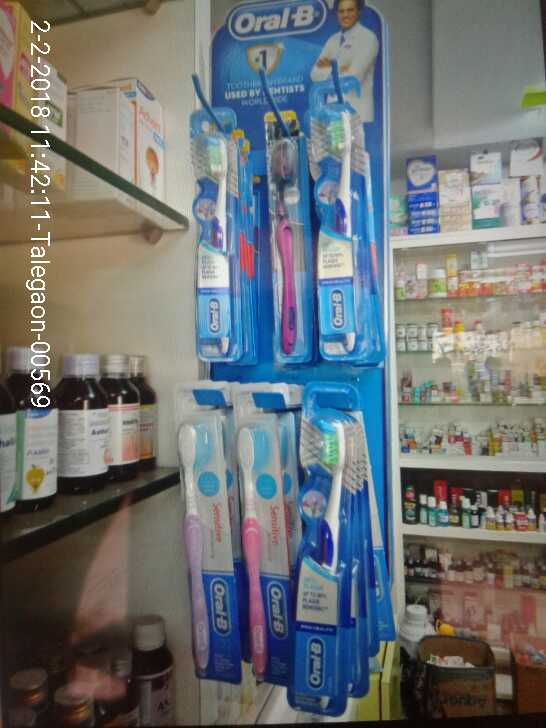oralb: (293, 409, 385, 703), (313, 100, 380, 367), (231, 422, 290, 677), (189, 131, 249, 361), (172, 415, 222, 675), (264, 134, 303, 357)
